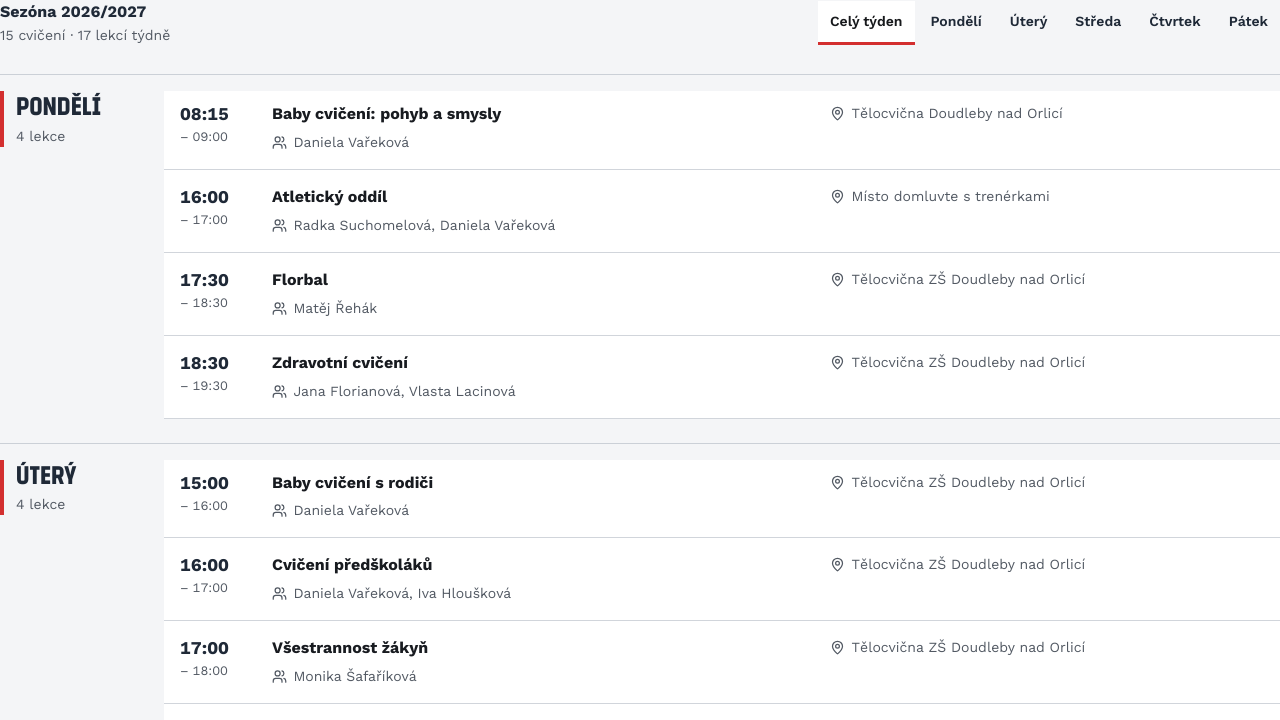
it: verified exercise content › weekly day selection keeps chronological sessions and can restore the whole week
Click the button "Pondělí": point(956, 23) top-left (918, 1), bottom-right (994, 45)
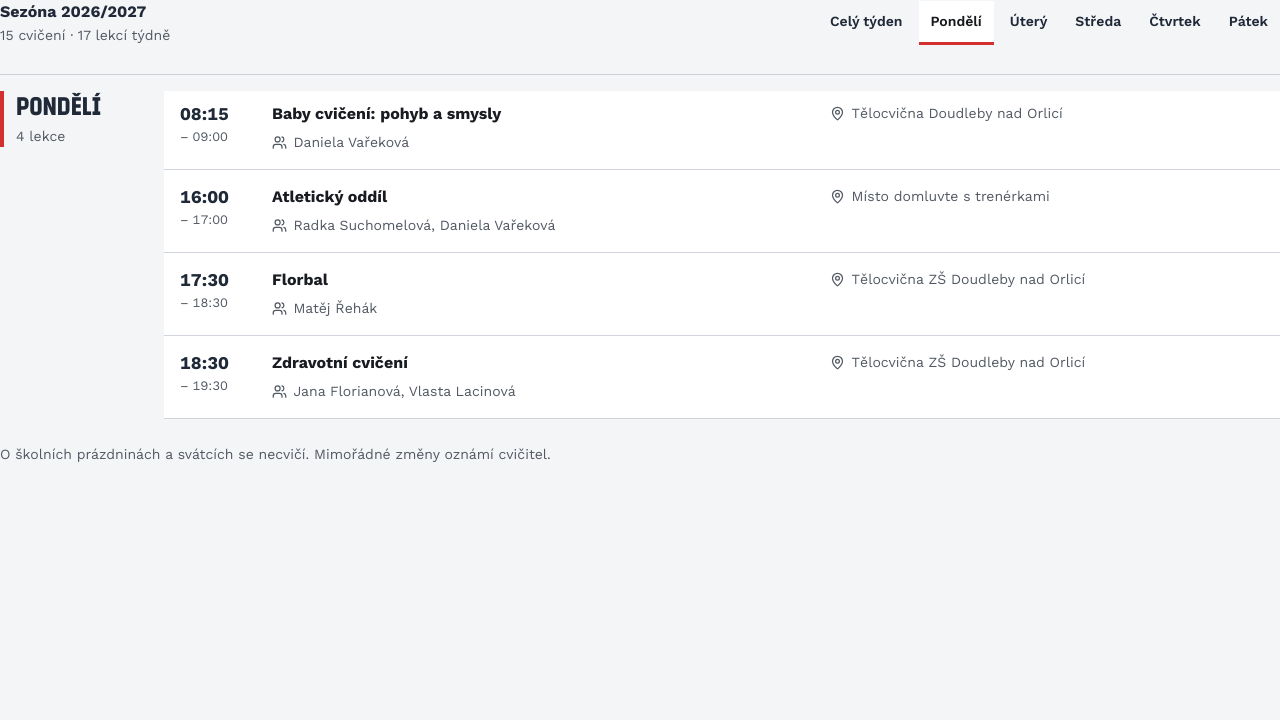
Expected: the list item that starts with "Baby cvičení: pohyb a smysly" shows "08:15", top-left (180, 103), bottom-right (229, 124)
Now the number of list items is 4, box top-left (164, 91), bottom-right (1279, 170); top-left (164, 170), bottom-right (1279, 253); top-left (164, 253), bottom-right (1279, 336); top-left (164, 336), bottom-right (1279, 418)
Click the button "Celý týden": point(866, 23) top-left (818, 1), bottom-right (914, 45)
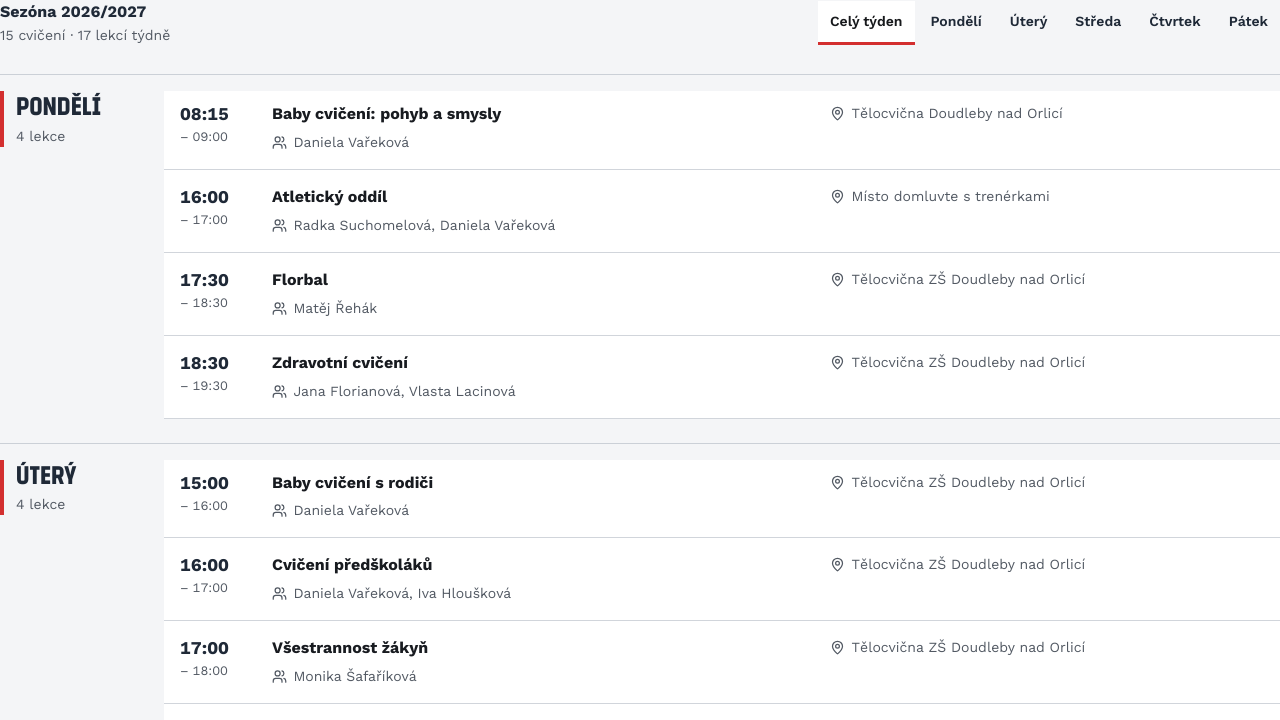
Now the number of list items is 17
